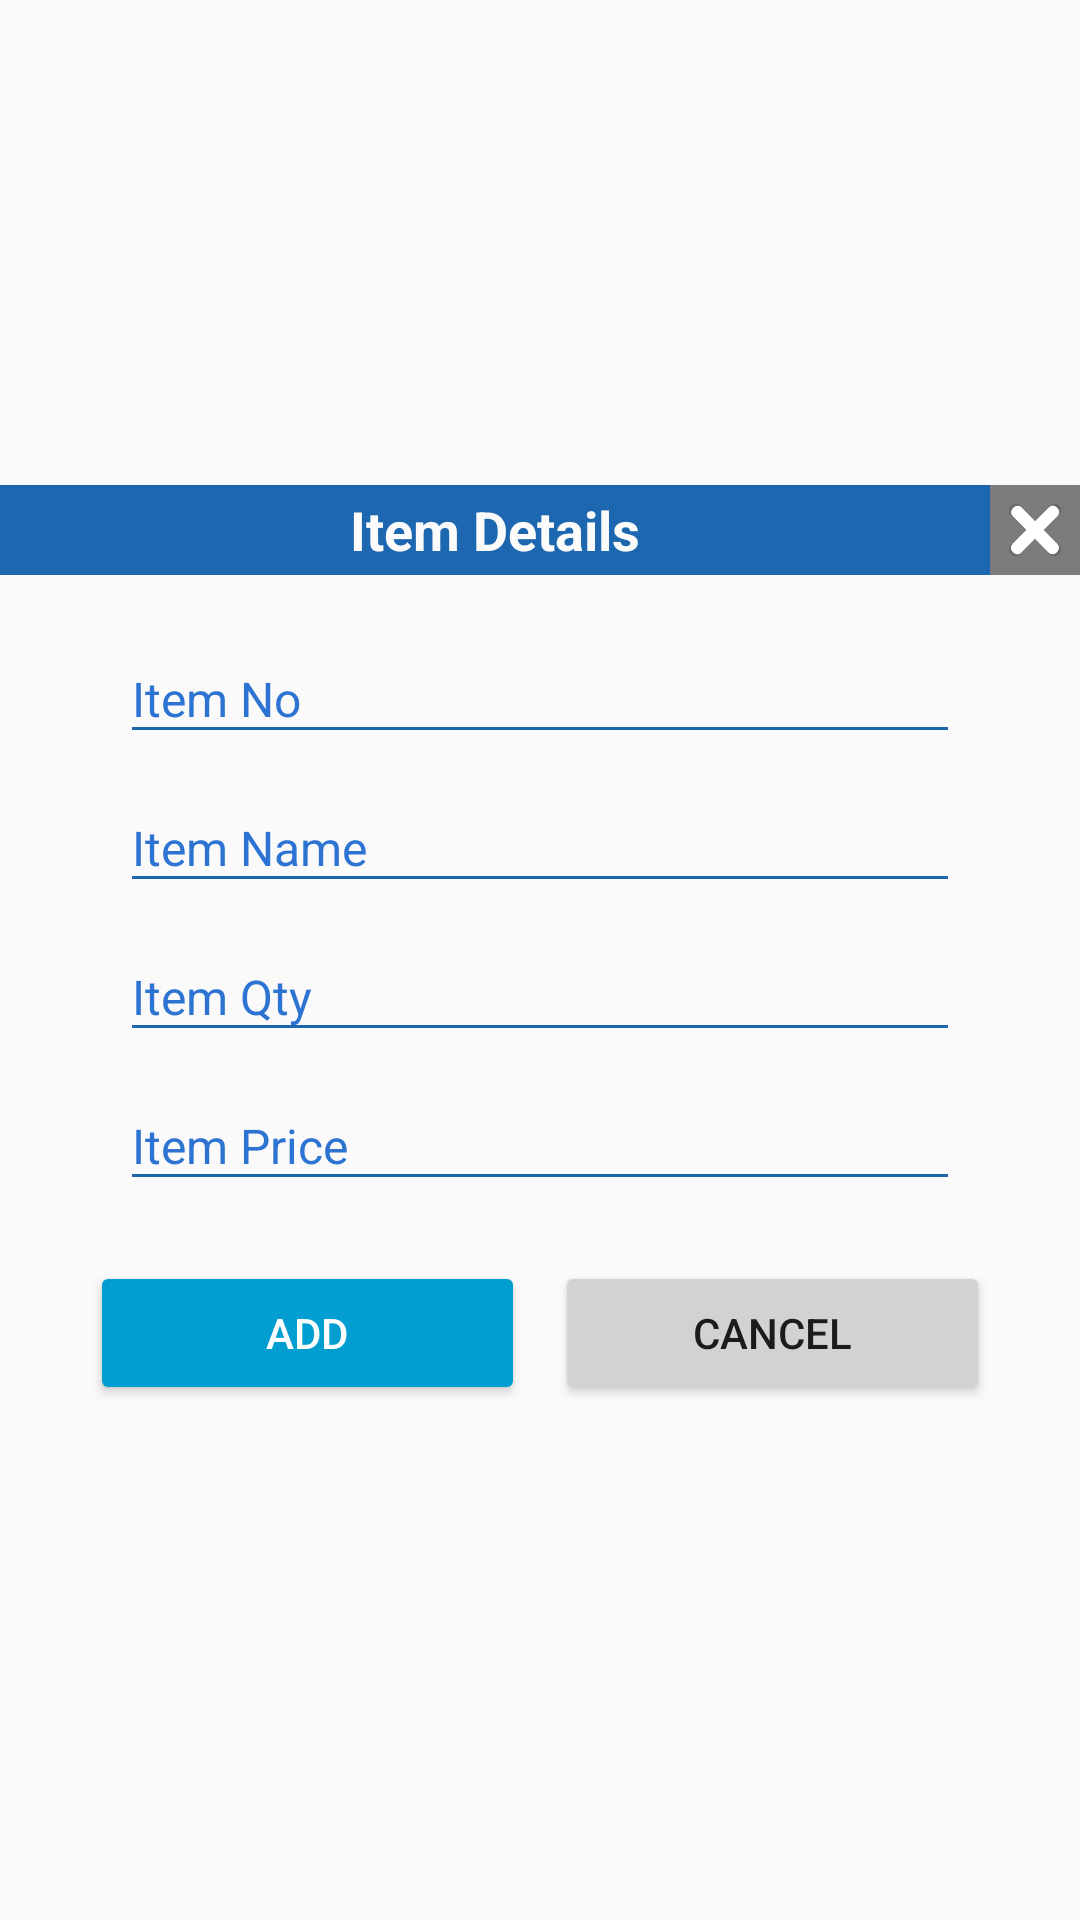

Where icons sit on this 1080px×1920px app screen, as (x1, y1, x2, y2):
closered: (990, 485, 1080, 575)
